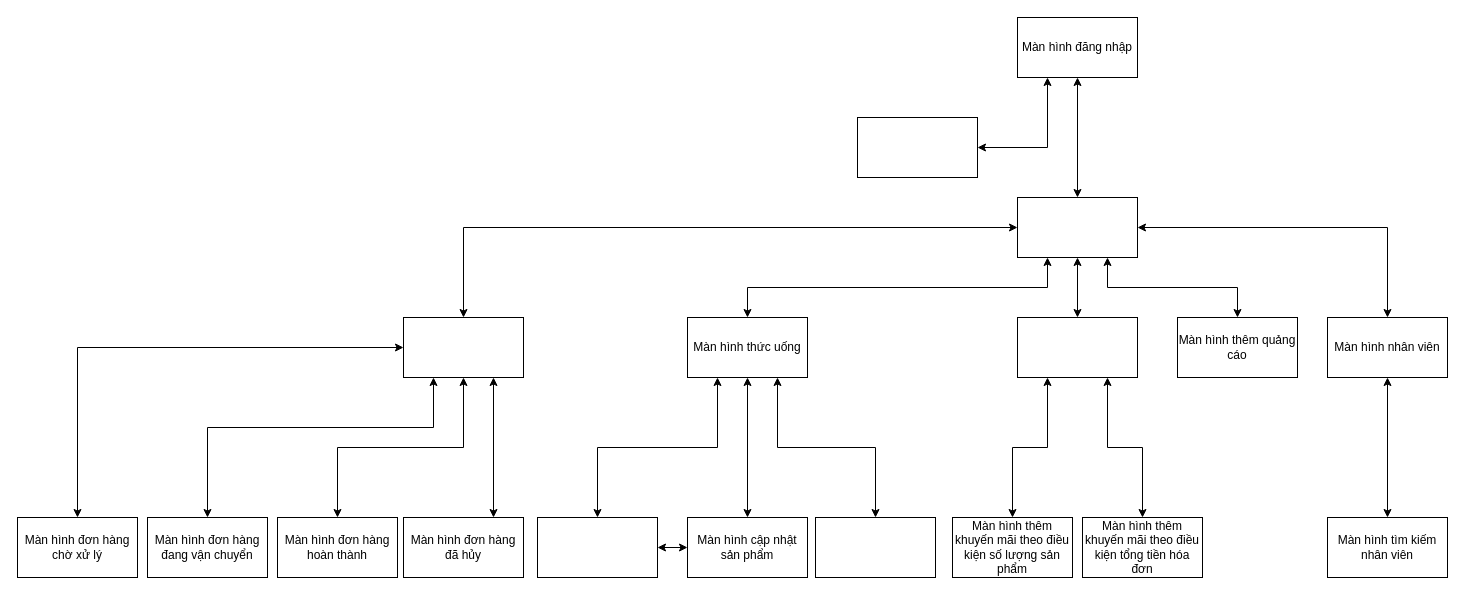
This 1465x595 diagram has some shape labels left out. Each missing label, with the centre of its shape:
"Màn hình khuyến mãi" goes at pixel 1077 347.
"Màn hình thêm sản phẩm" goes at pixel 875 547.
"Màn hình tìm kiếm sản phẩm" goes at pixel 597 547.
"Màn hình điều khiển" goes at pixel 1077 227.
"Màn hình đăng ký" goes at pixel 917 147.
"Màn hình đơn hàng" goes at pixel 463 347.
